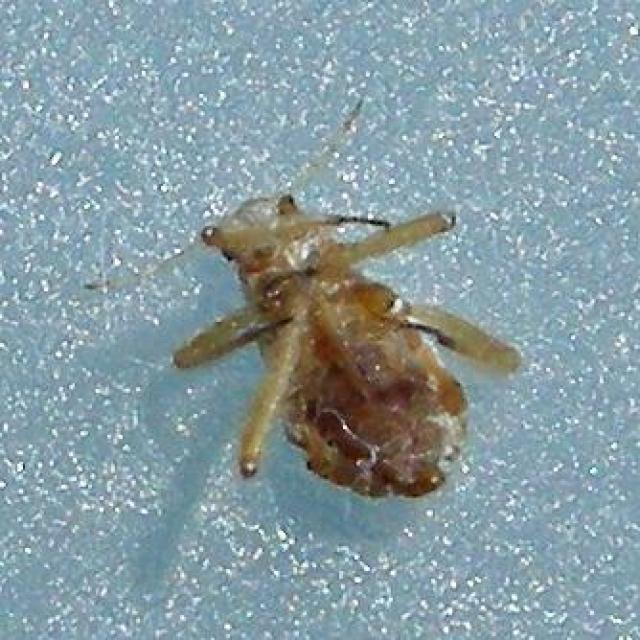Aphids: (156, 166, 528, 503)
